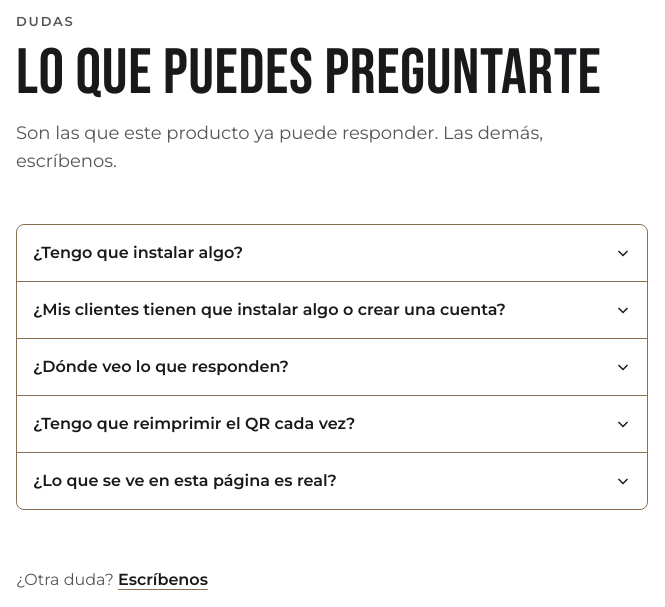
Test: Faqs › clicking button 1 again closes it: aria-expanded='false' and panel hidden
Step 1. Click the button "¿Tengo que instalar algo?" → (138, 253), box left=17, top=225, right=647, bottom=281
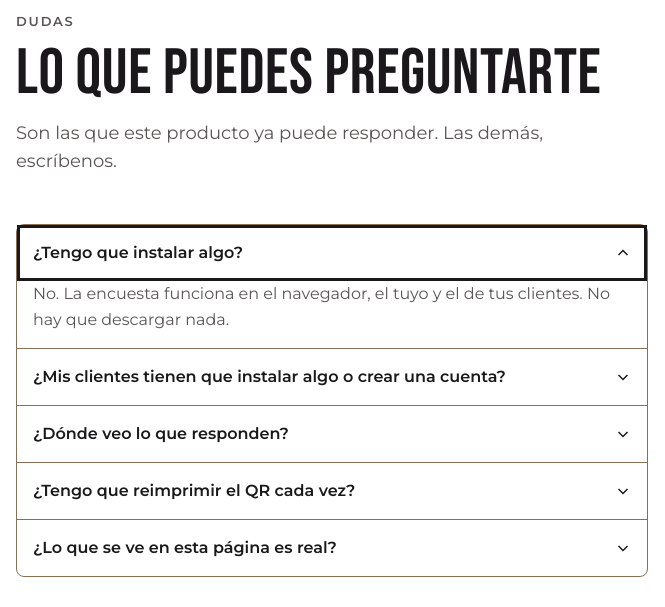
Expected: the button "¿Tengo que instalar algo?" is expanded
Step 2. Click the button "¿Tengo que instalar algo?" → (138, 253), box left=17, top=225, right=647, bottom=281
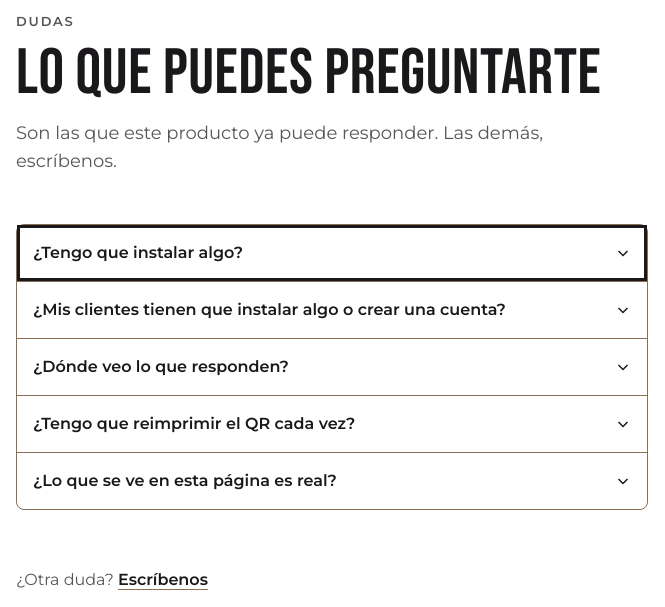
Expected: the button "¿Tengo que instalar algo?" is collapsed, left=17, top=225, right=647, bottom=281
